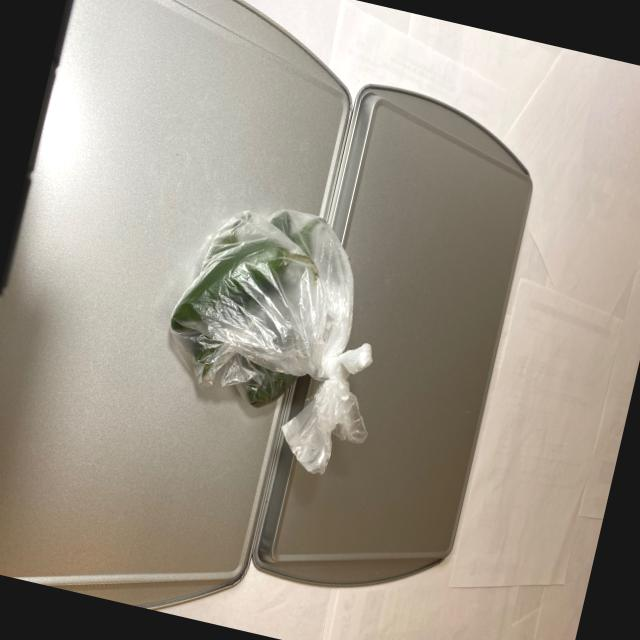chilli: (146, 183, 361, 440)
